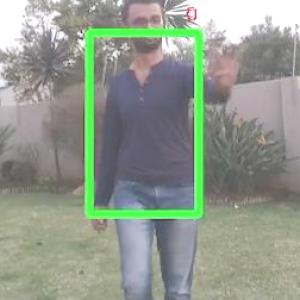takeoff-hand: (202, 34, 252, 91)
